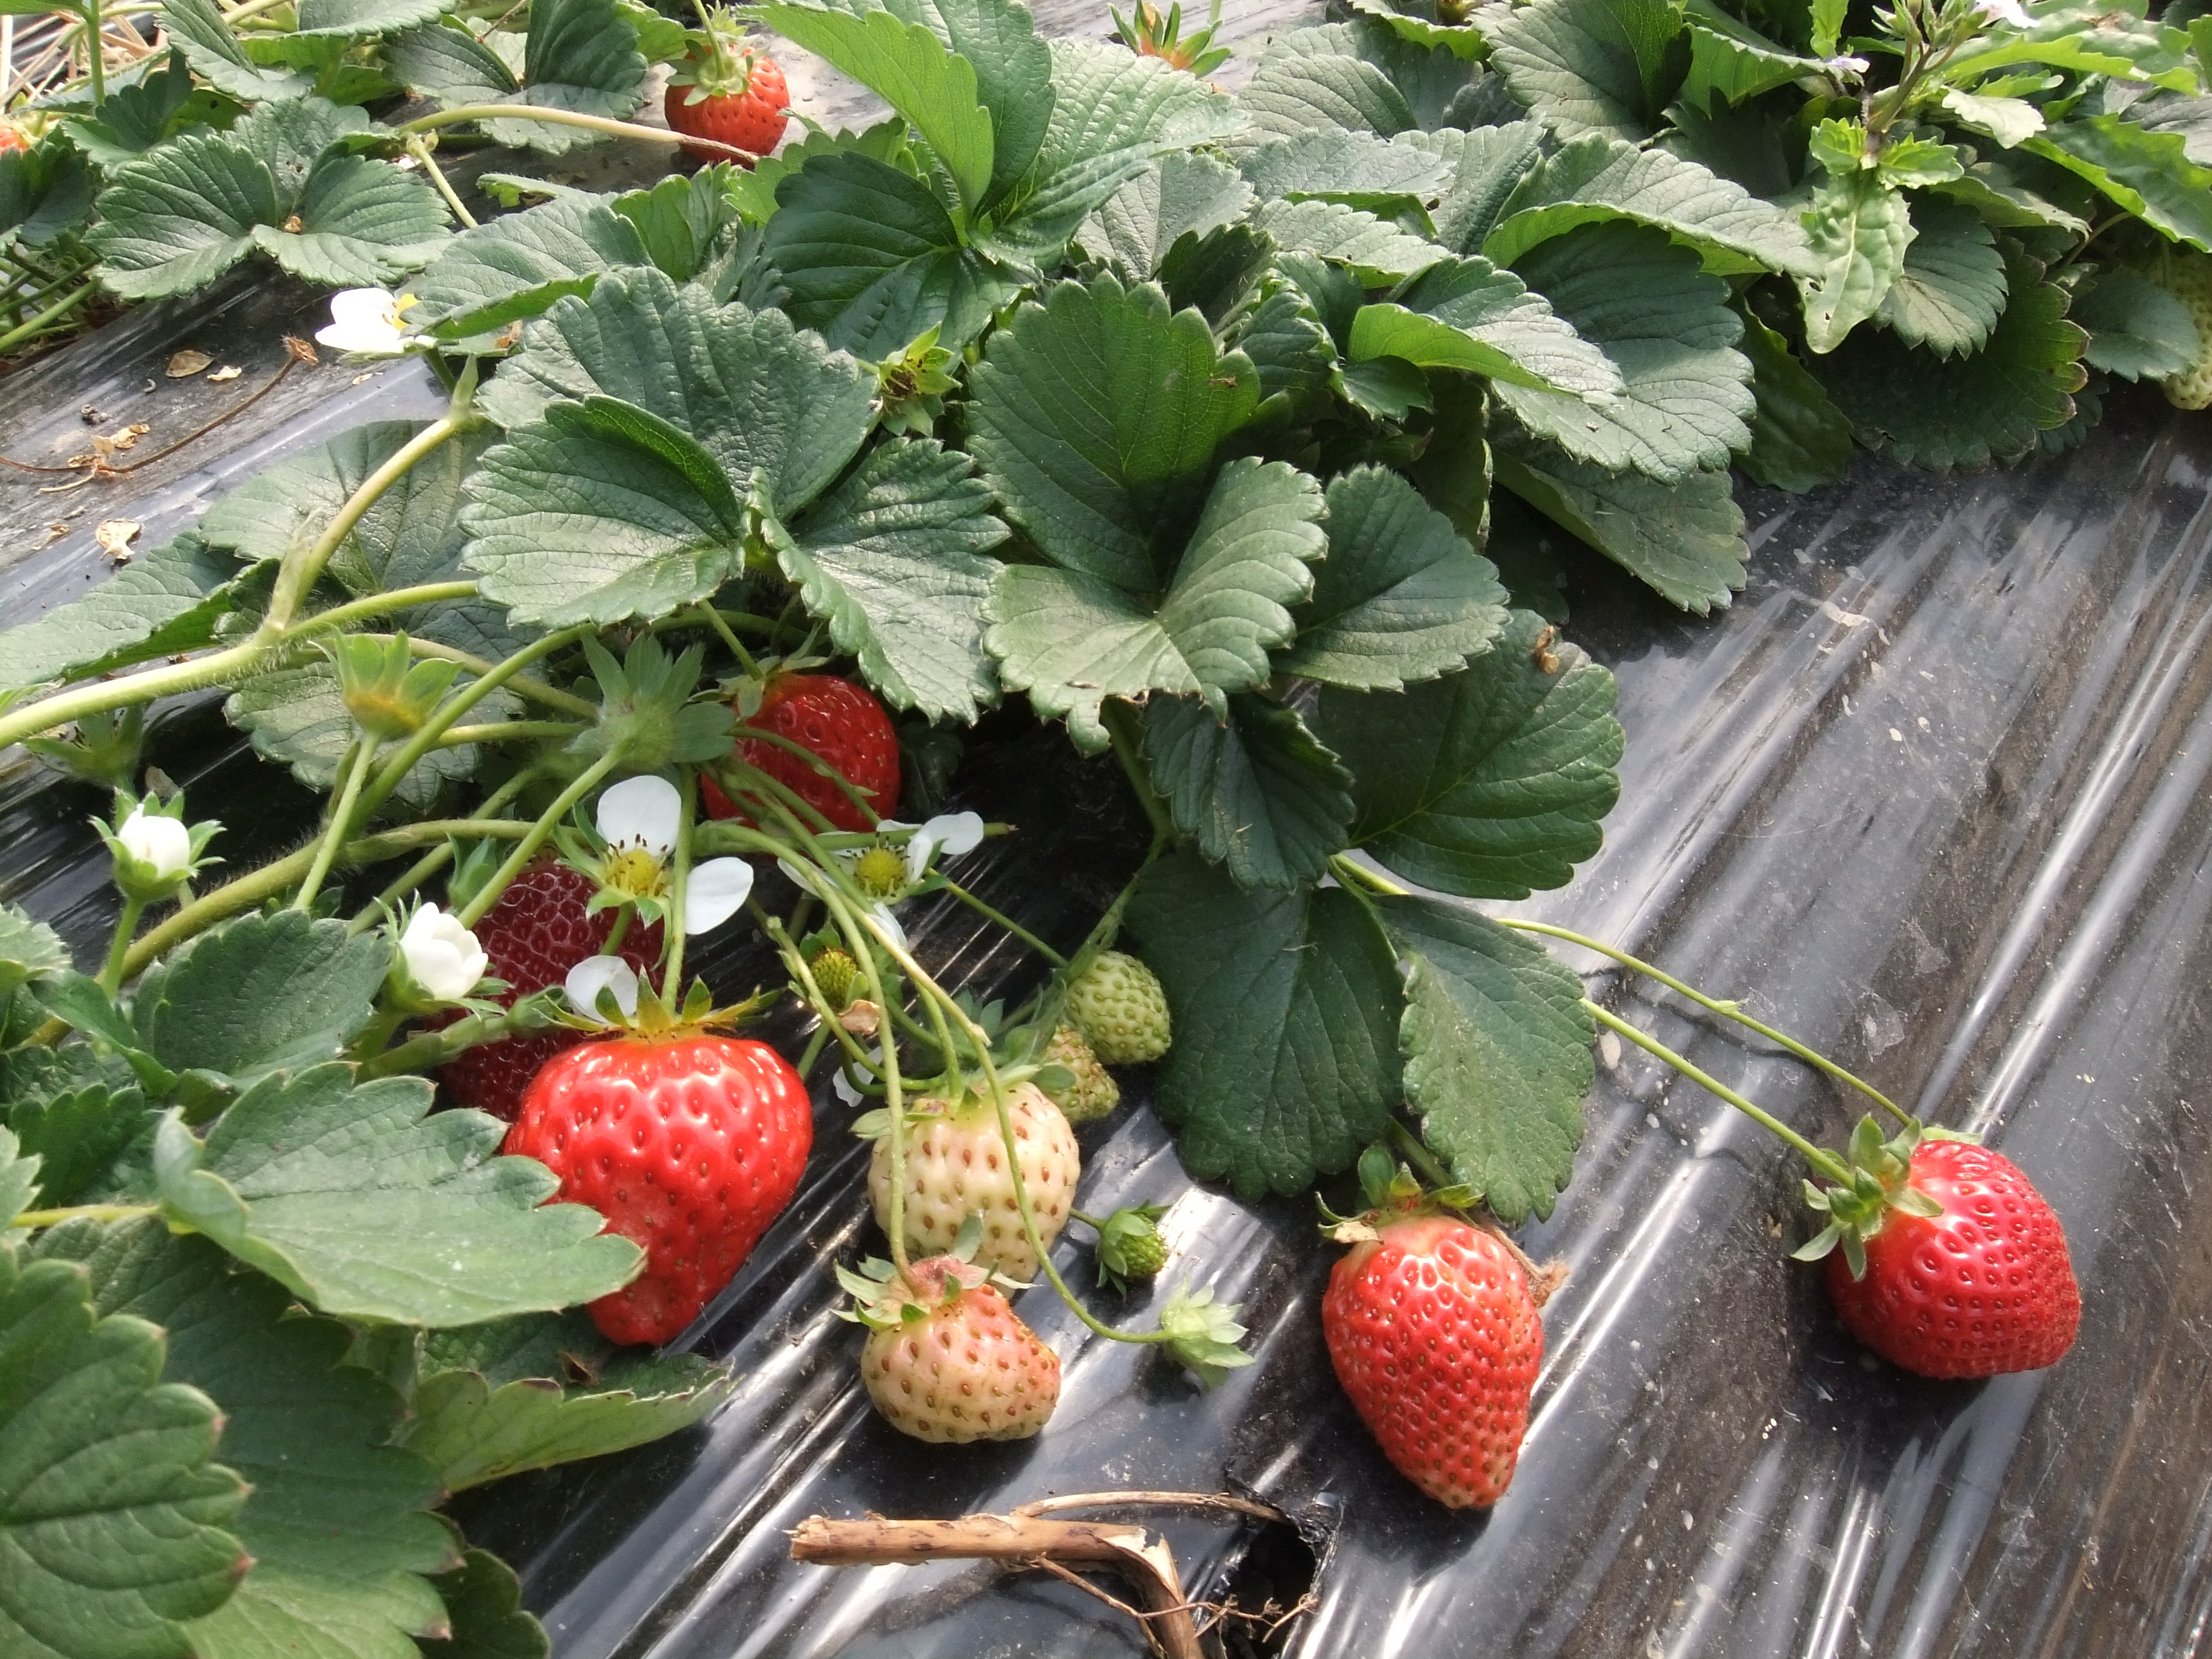StrawberryCone: (495, 1018, 808, 1352), (1834, 1121, 2090, 1408)
StrawberryIrremovable: (1313, 1206, 1552, 1518), (866, 1079, 1083, 1281), (860, 1272, 1069, 1452), (2123, 247, 2209, 437), (1062, 939, 1177, 1065), (1012, 1009, 1129, 1126), (1092, 1201, 1184, 1279), (798, 945, 871, 1025)
StrawberryOther: (395, 826, 697, 1131), (681, 660, 923, 866), (658, 51, 810, 183)
StrawberryRemovable: (503, 1019, 805, 1344), (399, 833, 691, 1126), (1839, 1122, 2090, 1399), (686, 669, 918, 859), (660, 52, 805, 178)
